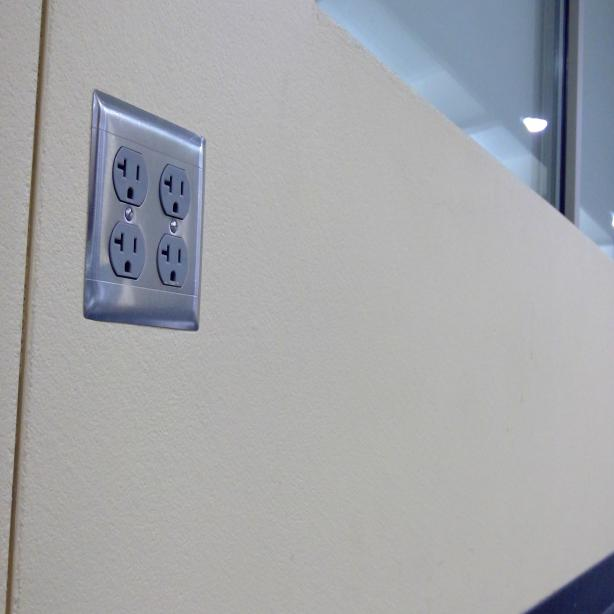typeb: (109, 219, 146, 276), (112, 146, 146, 206), (156, 236, 191, 288), (158, 162, 190, 217)
